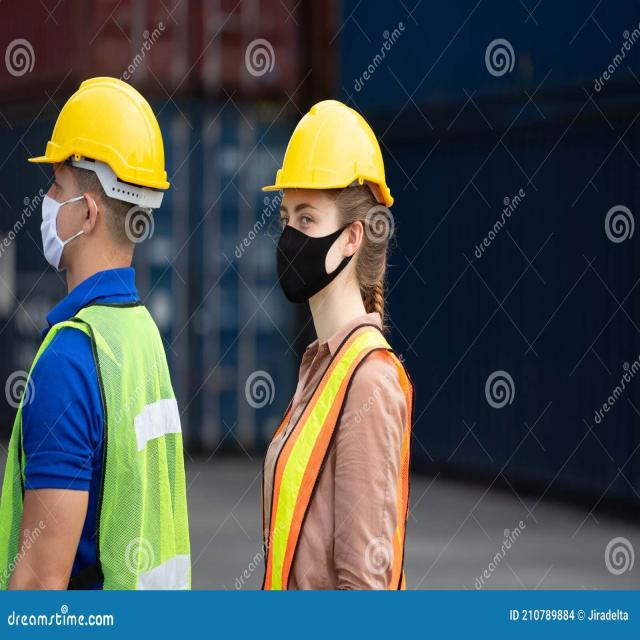helmet: (22, 69, 175, 204), (267, 88, 405, 210)
no-goggles: (271, 187, 370, 236), (31, 167, 106, 215)
vest: (19, 292, 167, 594), (267, 329, 409, 586)
